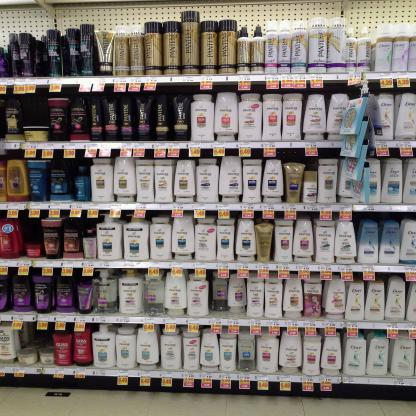Void: (26, 325, 52, 350), (20, 98, 45, 121), (23, 223, 42, 241)
